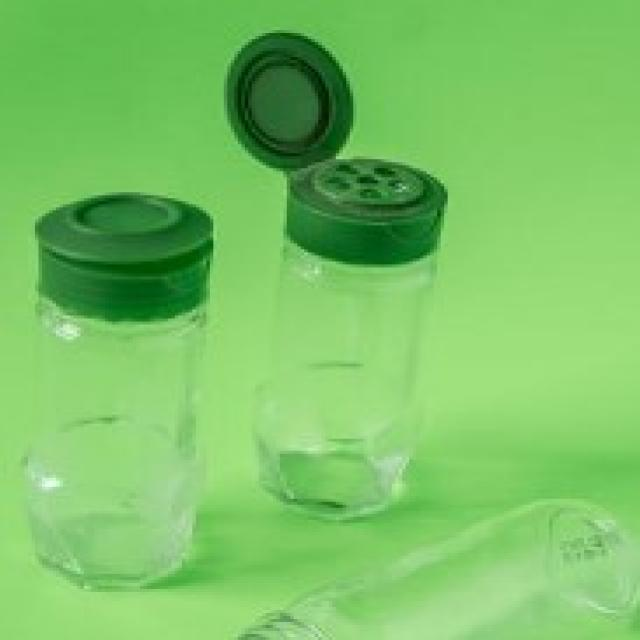electronic: (31, 155, 640, 640)
